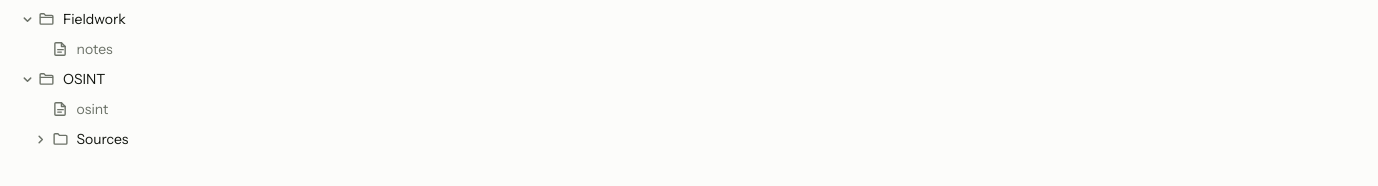
Test: publishing a folder as a book › does not offer it at all without somewhere to publish to
Right-click the button "Fieldwork".
right_click(94, 19)  # box [36, 4, 1372, 33]
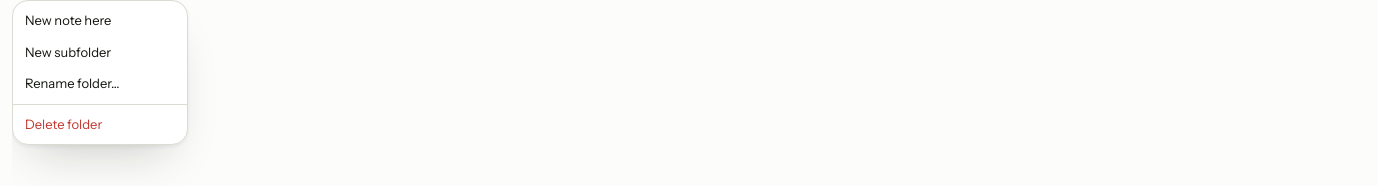
Expected: the menu item "Rename folder…" is shown, [13, 68, 187, 100]
